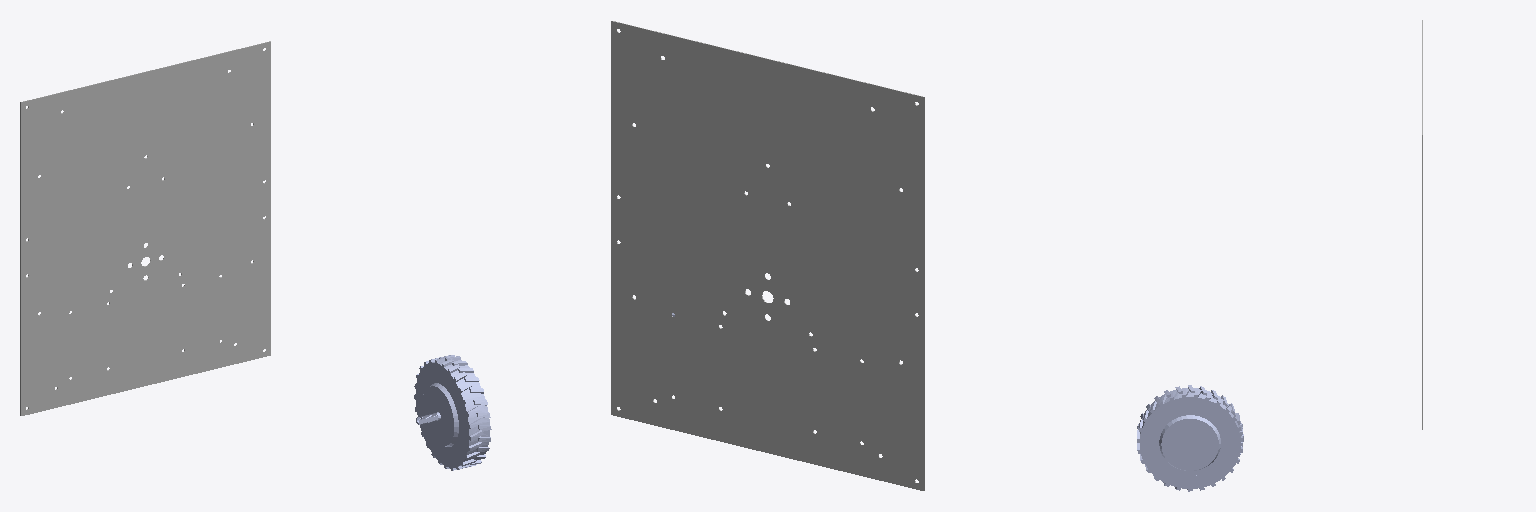
robot.urdf — mesh_test_6:
<?xml version="1.0" encoding="utf-8"?>
<!-- This URDF was automatically created by SolidWorks to URDF Exporter! Originally created by [author] ([email redacted]) 
     Commit Version: 1.6.0-4-g7f85cfe  Build Version: 1.6.7995.38578
     For more information, please see http://wiki.ros.org/sw_urdf_exporter -->
<robot
  name="mesh_test_6">
  <link
    name="base_link">
    <inertial>
      <origin
        xyz="0.0161504579719858 -0.143637840840427 0.0852688836644211"
        rpy="0 0 0" />
      <mass
        value="9.78594894087196" />
      <inertia
        ixx="0.0923704518471865"
        ixy="0.000551174219965496"
        ixz="-0.000123087495221517"
        iyy="0.0707137383571451"
        iyz="0.000320509335306617"
        izz="0.151887223746869" />
    </inertial>
    <visual>
      <origin
        xyz="0 0 0"
        rpy="0 0 0" />
      <geometry>
        <mesh
          filename="package://mesh_test_6/meshes/base_link.STL" />
      </geometry>
      <material
        name="">
        <color
          rgba="0.752941176470588 0.752941176470588 0.752941176470588 1" />
      </material>
    </visual>
    <collision>
      <origin
        xyz="0 0 0"
        rpy="0 0 0" />
      <geometry>
        <mesh
          filename="package://mesh_test_6/meshes/base_link.STL" />
      </geometry>
    </collision>
  </link>
  <link
    name="left_rear_wheel_link">
    <inertial>
      <origin
        xyz="0.00011830553141251 -5.65586319872802E-06 -2.13247584311405E-05"
        rpy="0 0 0" />
      <mass
        value="1.38515667925412" />
      <inertia
        ixx="0.00608670649415379"
        ixy="-1.30467261719062E-10"
        ixz="5.01634427641715E-08"
        iyy="0.00331734803830799"
        iyz="5.84204525053732E-11"
        izz="0.00331733096263903" />
    </inertial>
    <visual>
      <origin
        xyz="0 0 0"
        rpy="0 0 0" />
      <geometry>
        <mesh
          filename="package://mesh_test_6/meshes/left_rear_wheel_link.STL" />
      </geometry>
      <material
        name="">
        <color
          rgba="0.792156862745098 0.819607843137255 0.933333333333333 1" />
      </material>
    </visual>
    <collision>
      <origin
        xyz="0 0 0"
        rpy="0 0 0" />
      <geometry>
        <mesh
          filename="package://mesh_test_6/meshes/left_rear_wheel_link.STL" />
      </geometry>
    </collision>
  </link>
  <joint
    name="left_rear_wheel_joint"
    type="continuous">
    <origin
      xyz="-0.410080546831399 0.431805633687278 -0.266679314193787"
      rpy="0 0 0" />
    <parent
      link="base_link" />
    <child
      link="left_rear_wheel_link" />
    <axis
      xyz="-1 0 0" />
  </joint>
  <link
    name="right_rear_wheel_link">
    <inertial>
      <origin
        xyz="-0.000118305531397134 0.00763560125671886 0.0230472900127958"
        rpy="0 0 0" />
      <mass
        value="1.38515667925022" />
      <inertia
        ixx="0.00608670649414288"
        ixy="-1.51613486824127E-10"
        ixz="-5.01382976676806E-08"
        iyy="0.00331734776436555"
        iyz="-1.68192191316656E-11"
        izz="0.00331733123657076" />
    </inertial>
    <visual>
      <origin
        xyz="0 0 0"
        rpy="0 0 0" />
      <geometry>
        <mesh
          filename="package://mesh_test_6/meshes/right_rear_wheel_link.STL" />
      </geometry>
      <material
        name="">
        <color
          rgba="0.792156862745098 0.819607843137255 0.933333333333333 1" />
      </material>
    </visual>
    <collision>
      <origin
        xyz="0 0 0"
        rpy="0 0 0" />
      <geometry>
        <mesh
          filename="package://mesh_test_6/meshes/right_rear_wheel_link.STL" />
      </geometry>
    </collision>
  </link>
  <joint
    name="right_rear_wheel_joint"
    type="continuous">
    <origin
      xyz="0.410144046831401 0.424164395078577 -0.289747837637522"
      rpy="0 0 0" />
    <parent
      link="base_link" />
    <child
      link="right_rear_wheel_link" />
    <axis
      xyz="1 0 0" />
  </joint>
  <link
    name="left_middle_wheel_link">
    <inertial>
      <origin
        xyz="0.000118305531389473 -6.0647760923761E-06 -2.11493139803398E-05"
        rpy="0 0 0" />
      <mass
        value="1.38515667924975" />
      <inertia
        ixx="0.00608670649414168"
        ixy="3.79376286142113E-08"
        ixz="3.2772678348342E-08"
        iyy="0.00331733834943749"
        iyz="-8.20130896086935E-09"
        izz="0.00331734065149749" />
    </inertial>
    <visual>
      <origin
        xyz="0 0 0"
        rpy="0 0 0" />
      <geometry>
        <mesh
          filename="package://mesh_test_6/meshes/left_middle_wheel_link.STL" />
      </geometry>
      <material
        name="">
        <color
          rgba="0.792156862745098 0.819607843137255 0.933333333333333 1" />
      </material>
    </visual>
    <collision>
      <origin
        xyz="0 0 0"
        rpy="0 0 0" />
      <geometry>
        <mesh
          filename="package://mesh_test_6/meshes/left_middle_wheel_link.STL" />
      </geometry>
    </collision>
  </link>
  <joint
    name="left_middle_wheel_joint"
    type="continuous">
    <origin
      xyz="-0.410080546831395 0 -0.266679294969506"
      rpy="0 0 0" />
    <parent
      link="base_link" />
    <child
      link="left_middle_wheel_link" />
    <axis
      xyz="-1 0 0" />
  </joint>
  <link
    name="right_middle_wheel_link">
    <inertial>
      <origin
        xyz="-0.000118305531424778 0.0076351878226019 0.0230474792859071"
        rpy="0 0 0" />
      <mass
        value="1.38515667925641" />
      <inertia
        ixx="0.00608670649415985"
        ixy="-3.81060675117235E-08"
        ixz="-3.26231551854195E-08"
        iyy="0.00331733827450242"
        iyz="-8.43766950772032E-09"
        izz="0.00331734072645102" />
    </inertial>
    <visual>
      <origin
        xyz="0 0 0"
        rpy="0 0 0" />
      <geometry>
        <mesh
          filename="package://mesh_test_6/meshes/right_middle_wheel_link.STL" />
      </geometry>
      <material
        name="">
        <color
          rgba="0.792156862745098 0.819607843137255 0.933333333333333 1" />
      </material>
    </visual>
    <collision>
      <origin
        xyz="0 0 0"
        rpy="0 0 0" />
      <geometry>
        <mesh
          filename="package://mesh_test_6/meshes/right_middle_wheel_link.STL" />
      </geometry>
    </collision>
  </link>
  <joint
    name="right_middle_wheel_joint"
    type="continuous">
    <origin
      xyz="0.410144046831401 -0.00763560526423259 -0.289747837561235"
      rpy="0 0 0" />
    <parent
      link="base_link" />
    <child
      link="right_middle_wheel_link" />
    <axis
      xyz="1 0 0" />
  </joint>
  <link
    name="left_front_wheel_link">
    <inertial>
      <origin
        xyz="0.000155212043928044 -2.36124552175365E-05 4.13306403687641E-05"
        rpy="0 0 0" />
      <mass
        value="1.38515667925253" />
      <inertia
        ixx="0.00608670649414915"
        ixy="-1.51546150594949E-10"
        ixz="5.01389386245009E-08"
        iyy="0.00331734776435004"
        iyz="1.79208089561809E-11"
        izz="0.00331733123659271" />
    </inertial>
    <visual>
      <origin
        xyz="0 0 0"
        rpy="0 0 0" />
      <geometry>
        <mesh
          filename="package://mesh_test_6/meshes/left_front_wheel_link.STL" />
      </geometry>
      <material
        name="">
        <color
          rgba="0.792156862745098 0.819607843137255 0.933333333333333 1" />
      </material>
    </visual>
    <collision>
      <origin
        xyz="0 0 0"
        rpy="0 0 0" />
      <geometry>
        <mesh
          filename="package://mesh_test_6/meshes/left_front_wheel_link.STL" />
      </geometry>
    </collision>
  </link>
  <joint
    name="left_front_wheel_joint"
    type="continuous">
    <origin
      xyz="-0.372017453168602 -0.435014123947829 -0.267622490828346"
      rpy="0 0 0" />
    <parent
      link="base_link" />
    <child
      link="left_front_wheel_link" />
    <axis
      xyz="1 0 0" />
  </joint>
  <link
    name="right_front_wheel_link">
    <inertial>
      <origin
        xyz="-0.000118305531394025 0.0240239803189893 -0.0485832527049723"
        rpy="0 0 0" />
      <mass
        value="1.38515667925022" />
      <inertia
        ixx="0.0060867064941429"
        ixy="-1.5166526359711E-10"
        ixz="-5.01382975359702E-08"
        iyy="0.00331734776436552"
        iyz="-1.68365666308332E-11"
        izz="0.00331733123657081" />
    </inertial>
    <visual>
      <origin
        xyz="0 0 0"
        rpy="0 0 0" />
      <geometry>
        <mesh
          filename="package://mesh_test_6/meshes/right_front_wheel_link.STL" />
      </geometry>
      <material
        name="">
        <color
          rgba="0.792156862745098 0.819607843137255 0.933333333333333 1" />
      </material>
    </visual>
    <collision>
      <origin
        xyz="0 0 0"
        rpy="0 0 0" />
      <geometry>
        <mesh
          filename="package://mesh_test_6/meshes/right_front_wheel_link.STL" />
      </geometry>
    </collision>
  </link>
  <joint
    name="right_front_wheel_joint"
    type="continuous">
    <origin
      xyz="0.372044046831398 -0.459061618537854 -0.218998086123457"
      rpy="0 0 0" />
    <parent
      link="base_link" />
    <child
      link="right_front_wheel_link" />
    <axis
      xyz="1 0 0" />
  </joint>
</robot>

--- Facts derived from the render (not from the file) ---
Views: 3 orthographic renders of the robot side by side, from view 1: azimuth 30°, elevation 25°; view 2: azimuth 150°, elevation 25°; view 3: azimuth 270°, elevation 25°.
Robot: mesh_test_6 — 7 links, 6 joints (6 continuous); root link base_link; default pose: every joint at zero.
Visible links, largest first — view 1: base_link, right_front_wheel_link; view 2: base_link; view 3: right_front_wheel_link.
Boxes of the visible links, x1,y1,x2,y2 form: base_link: (20, 41, 270, 415); right_front_wheel_link: (414, 355, 491, 470); base_link: (611, 21, 924, 490); right_front_wheel_link: (1137, 385, 1243, 491).
Size in the robot's own frame: 0.6541 by 0.5366 by 0.6723 metres.
Meshes: 7 distinct files referenced, 2 mesh visuals loaded (2 binary STL); not drawn: 5 (reference not matched to a file when rendering).